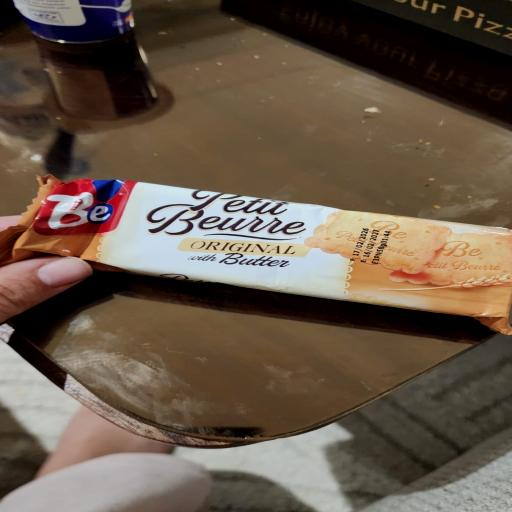petit_beurre: (6, 144, 512, 408)
